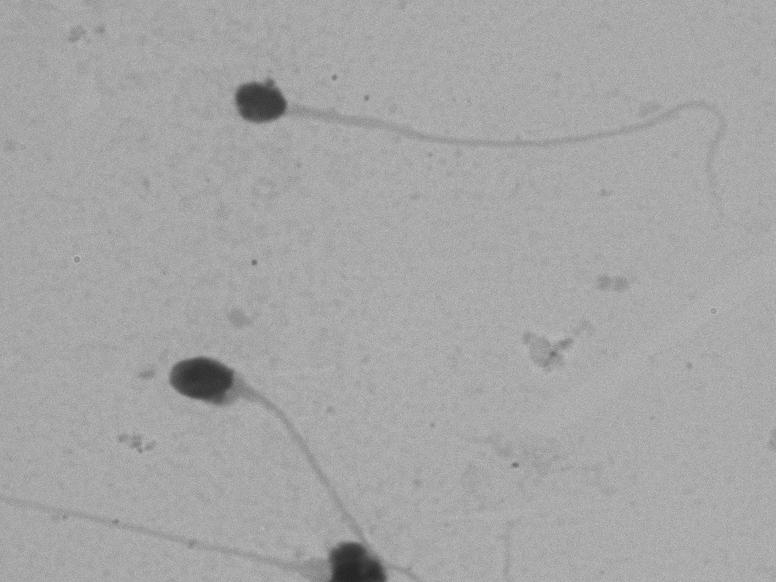Abnormal: (212, 61, 752, 241), (149, 291, 385, 546)
